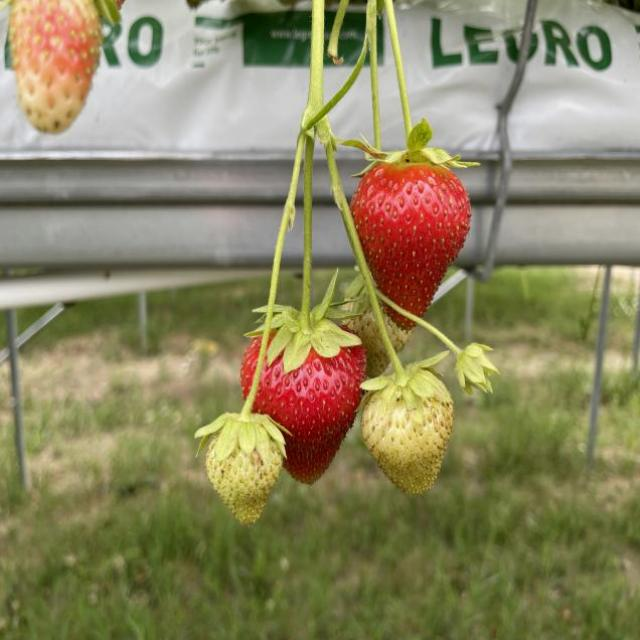stem: (370, 47, 467, 168), (199, 365, 282, 465), (270, 137, 304, 333)
strawberryNR: (362, 391, 454, 494), (206, 444, 283, 524)
strawberryR: (351, 165, 470, 317), (261, 346, 364, 482), (10, 1, 101, 133)
